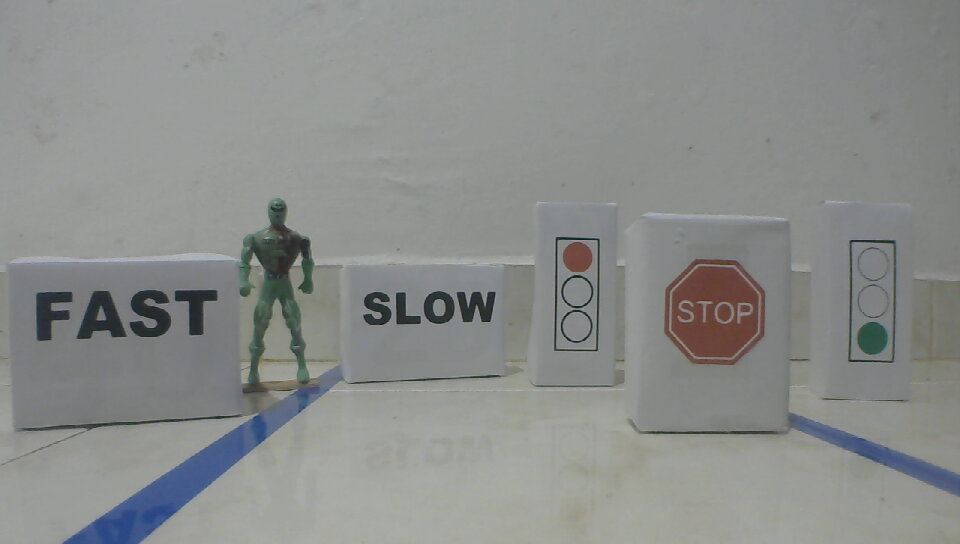Fast: (33, 287, 222, 342)
Green Traffic Light: (847, 236, 898, 367)
Person: (238, 196, 318, 390)
Red Traffic Light: (552, 236, 601, 355)
Slow: (361, 287, 498, 329)
Stop Sign: (664, 260, 768, 366)
